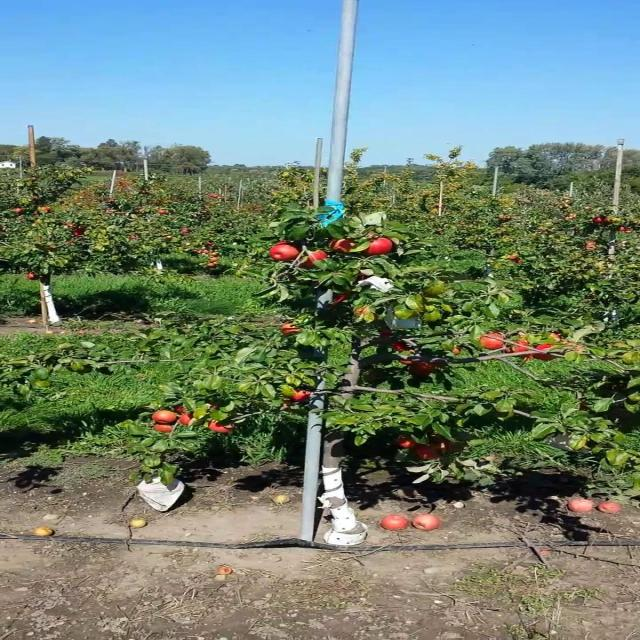apple: (269, 244, 300, 262), (362, 240, 396, 256), (298, 252, 329, 268), (504, 340, 533, 355), (483, 332, 505, 351), (532, 344, 556, 360), (298, 256, 327, 268), (333, 240, 357, 253), (212, 420, 235, 433), (156, 412, 178, 424), (419, 448, 441, 460), (412, 364, 434, 376), (433, 440, 455, 451), (284, 324, 304, 336), (177, 412, 194, 425), (397, 440, 420, 449), (291, 392, 313, 401), (355, 308, 373, 318), (397, 340, 411, 352), (547, 332, 564, 341), (404, 360, 425, 367), (156, 424, 174, 432), (177, 408, 190, 419), (333, 296, 348, 304), (454, 348, 462, 356), (383, 332, 393, 337), (212, 404, 220, 408)
